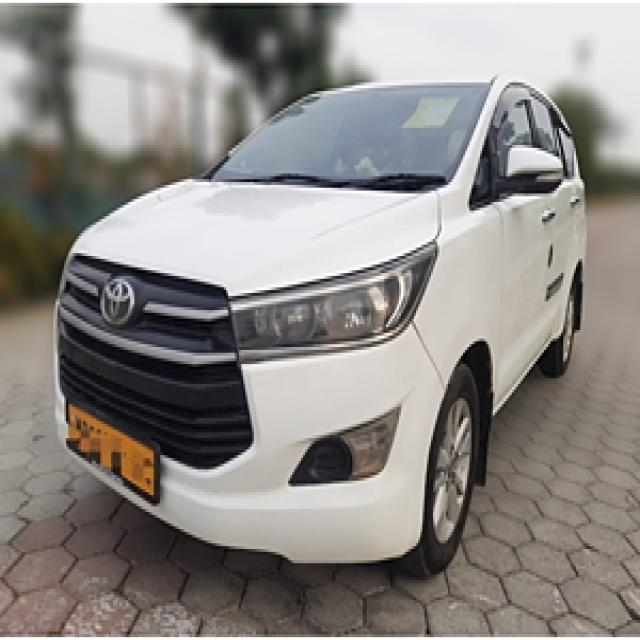light_vehicle: (52, 75, 590, 579)
